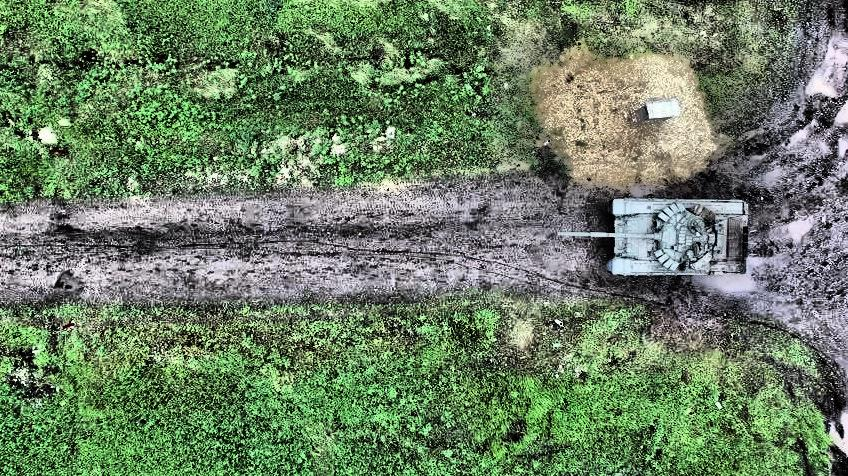military-vehicle: (556, 197, 751, 275)
